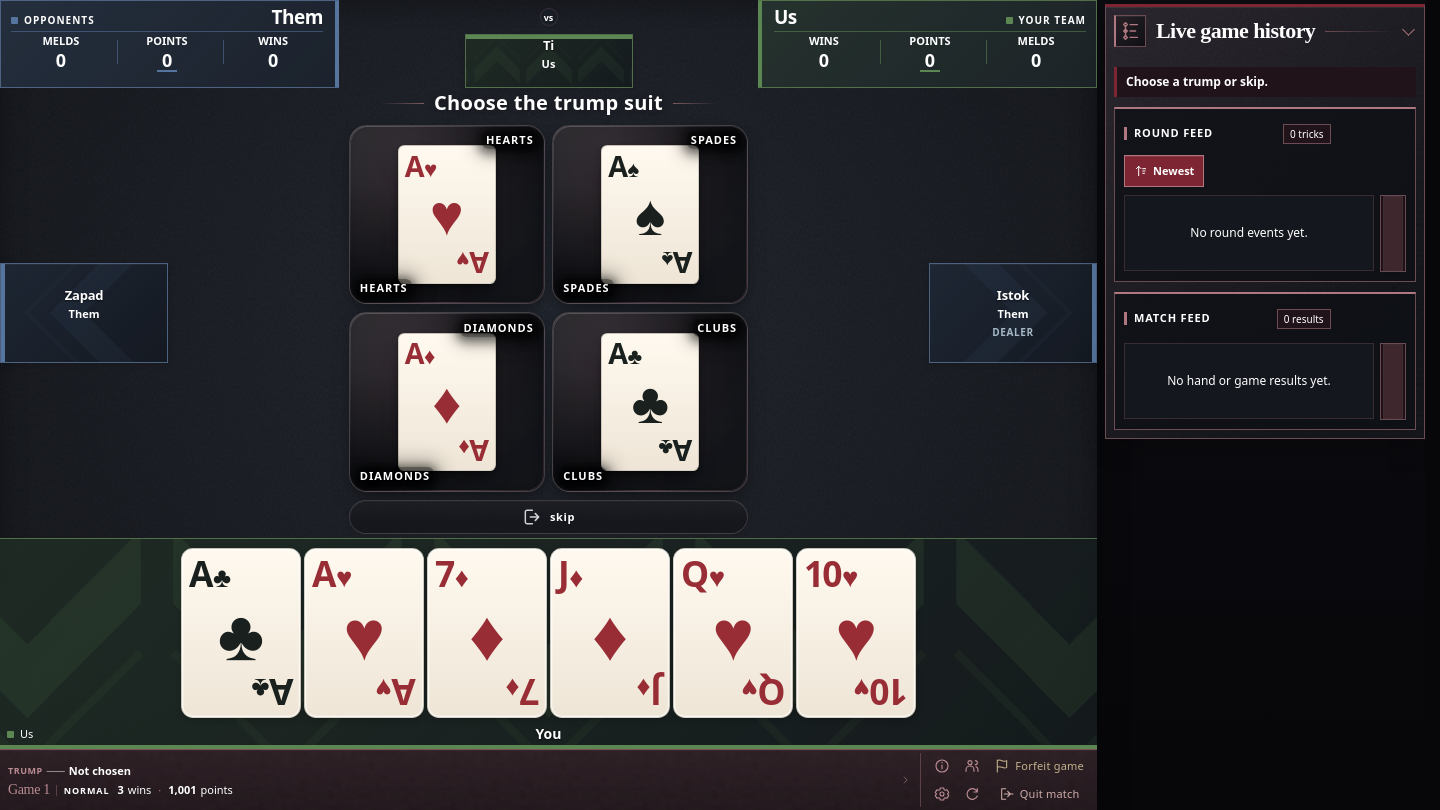
Test: a stale room is refreshed after a conflict instead of replaying a different move
The width and height of the screenshot is (1440, 810).
Click the button "A ♥ ♥ A ♥ hearts hearts": (447, 214) 349,125 -> 545,304
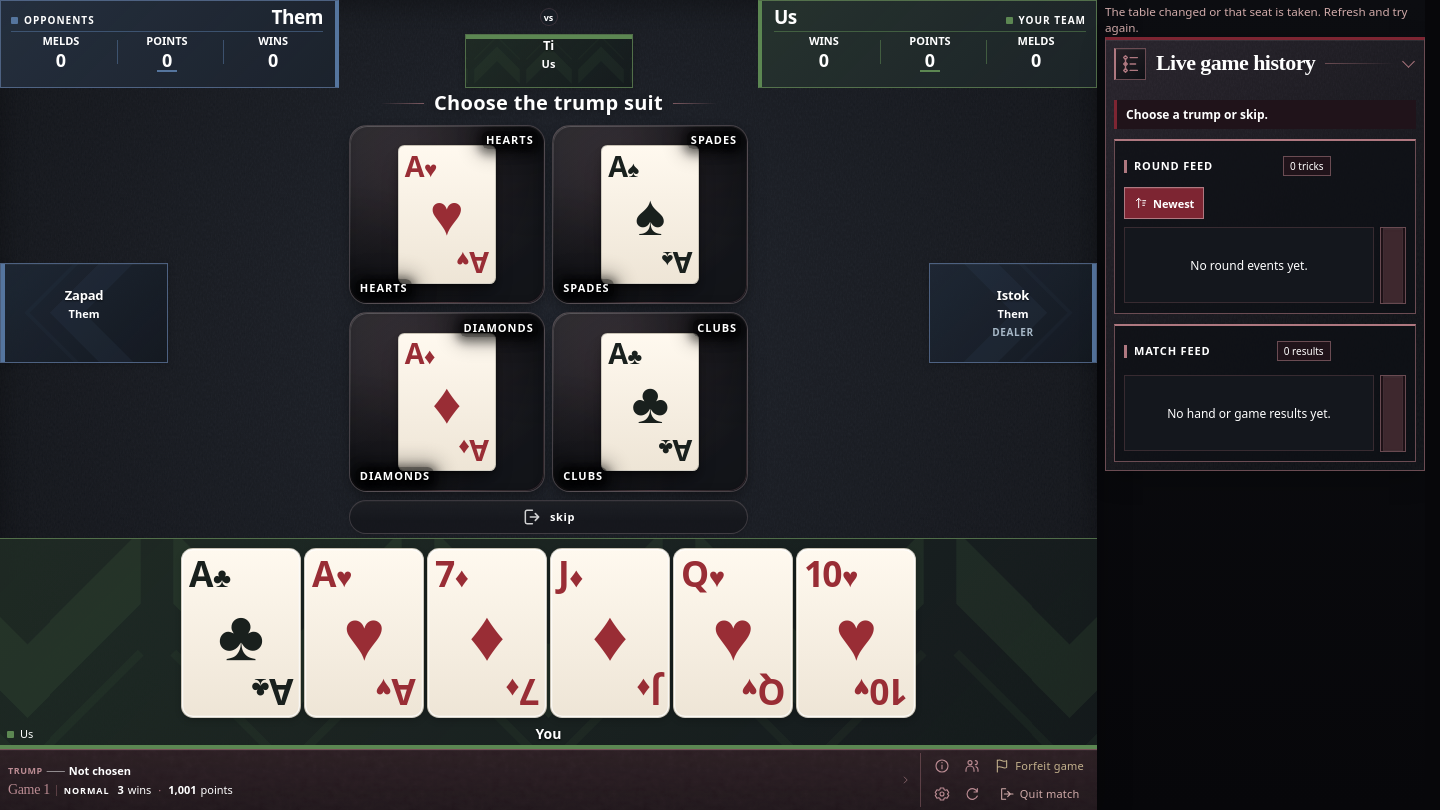
expect the message "The table changed or that seat is taken. Refresh and try again." is shown: met, box 1105,4 -> 1425,37
